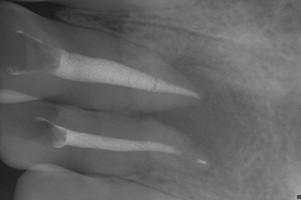Furcation Involvement: (135, 48, 260, 167)
